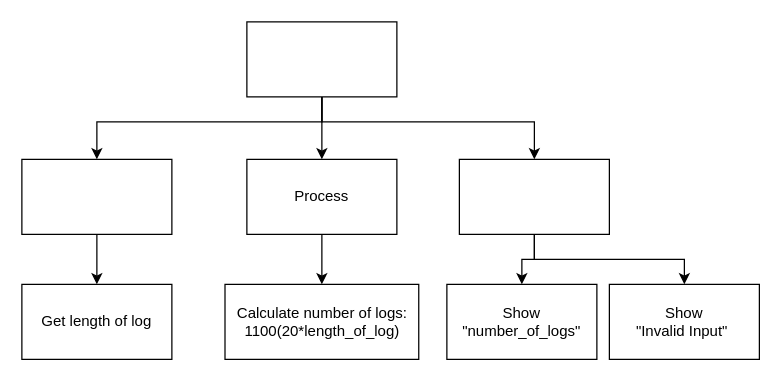
The diagram is 781 pixels wide and 381 high, and some of its shapes have lost their labels. The shapes that lost their labels are listed below. From the top down, each one's centre as x and y in pixels, then its label:
At (321,59): "Log".
At (96,196): "Input".
At (533,196): "Output".
